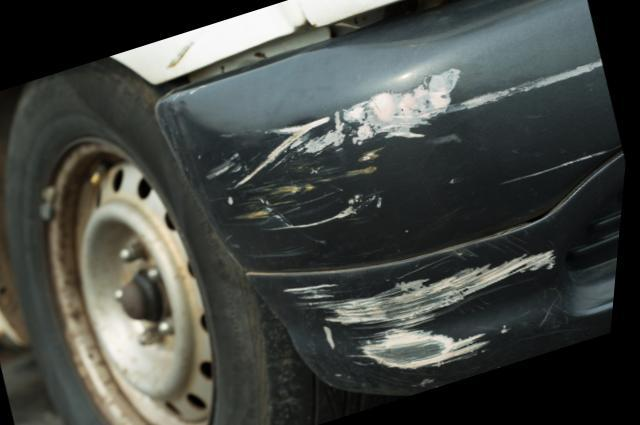scratch: (200, 47, 605, 232), (281, 249, 567, 385)
